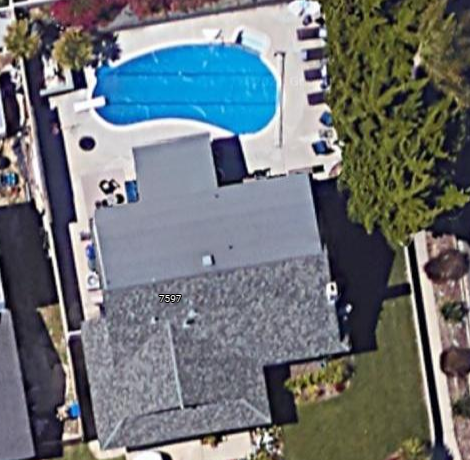poolww: (79, 35, 286, 146)
